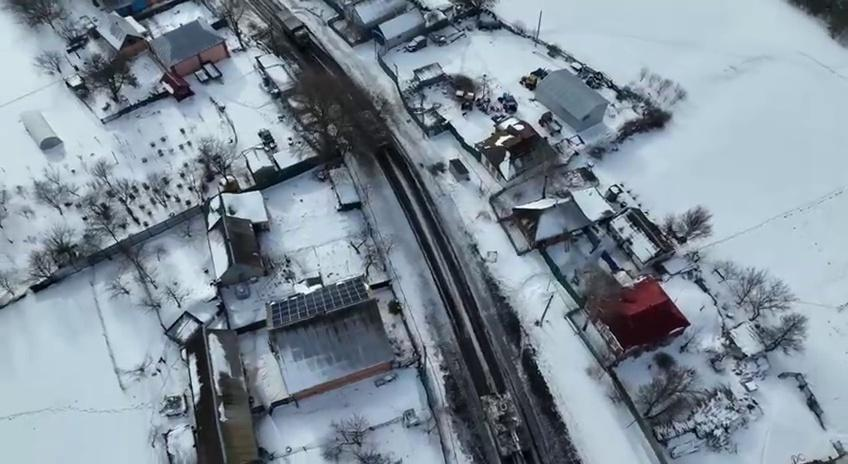sau: (478, 391, 533, 464)
tank: (350, 97, 398, 156)
truck: (274, 8, 312, 50)
